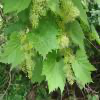grape leaf: (28, 19, 60, 59), (38, 58, 66, 96), (0, 30, 23, 73), (70, 20, 86, 54), (31, 59, 44, 86)
